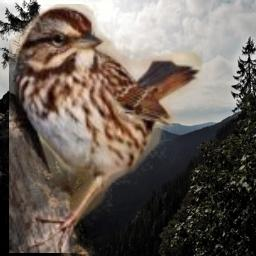Sparrow: (9, 4, 202, 253)
